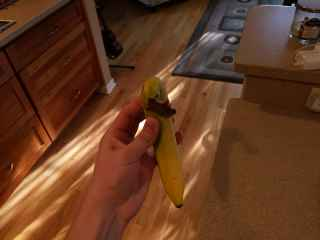banana: (133, 72, 193, 213)
